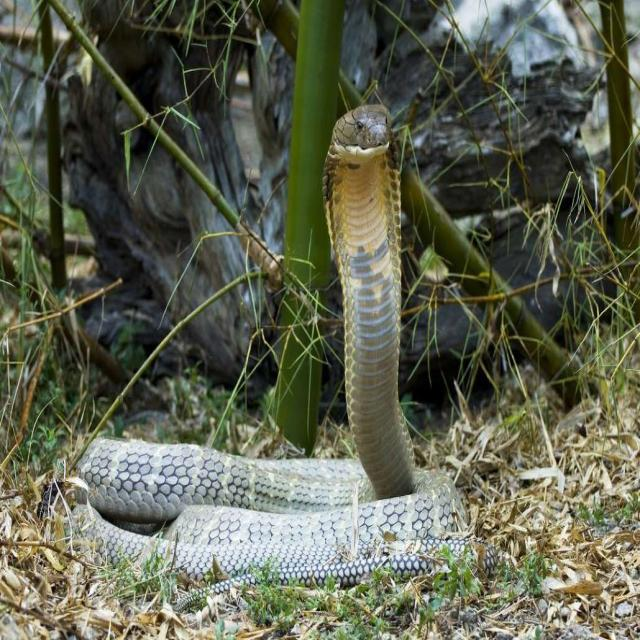Snake: (48, 101, 500, 602)
